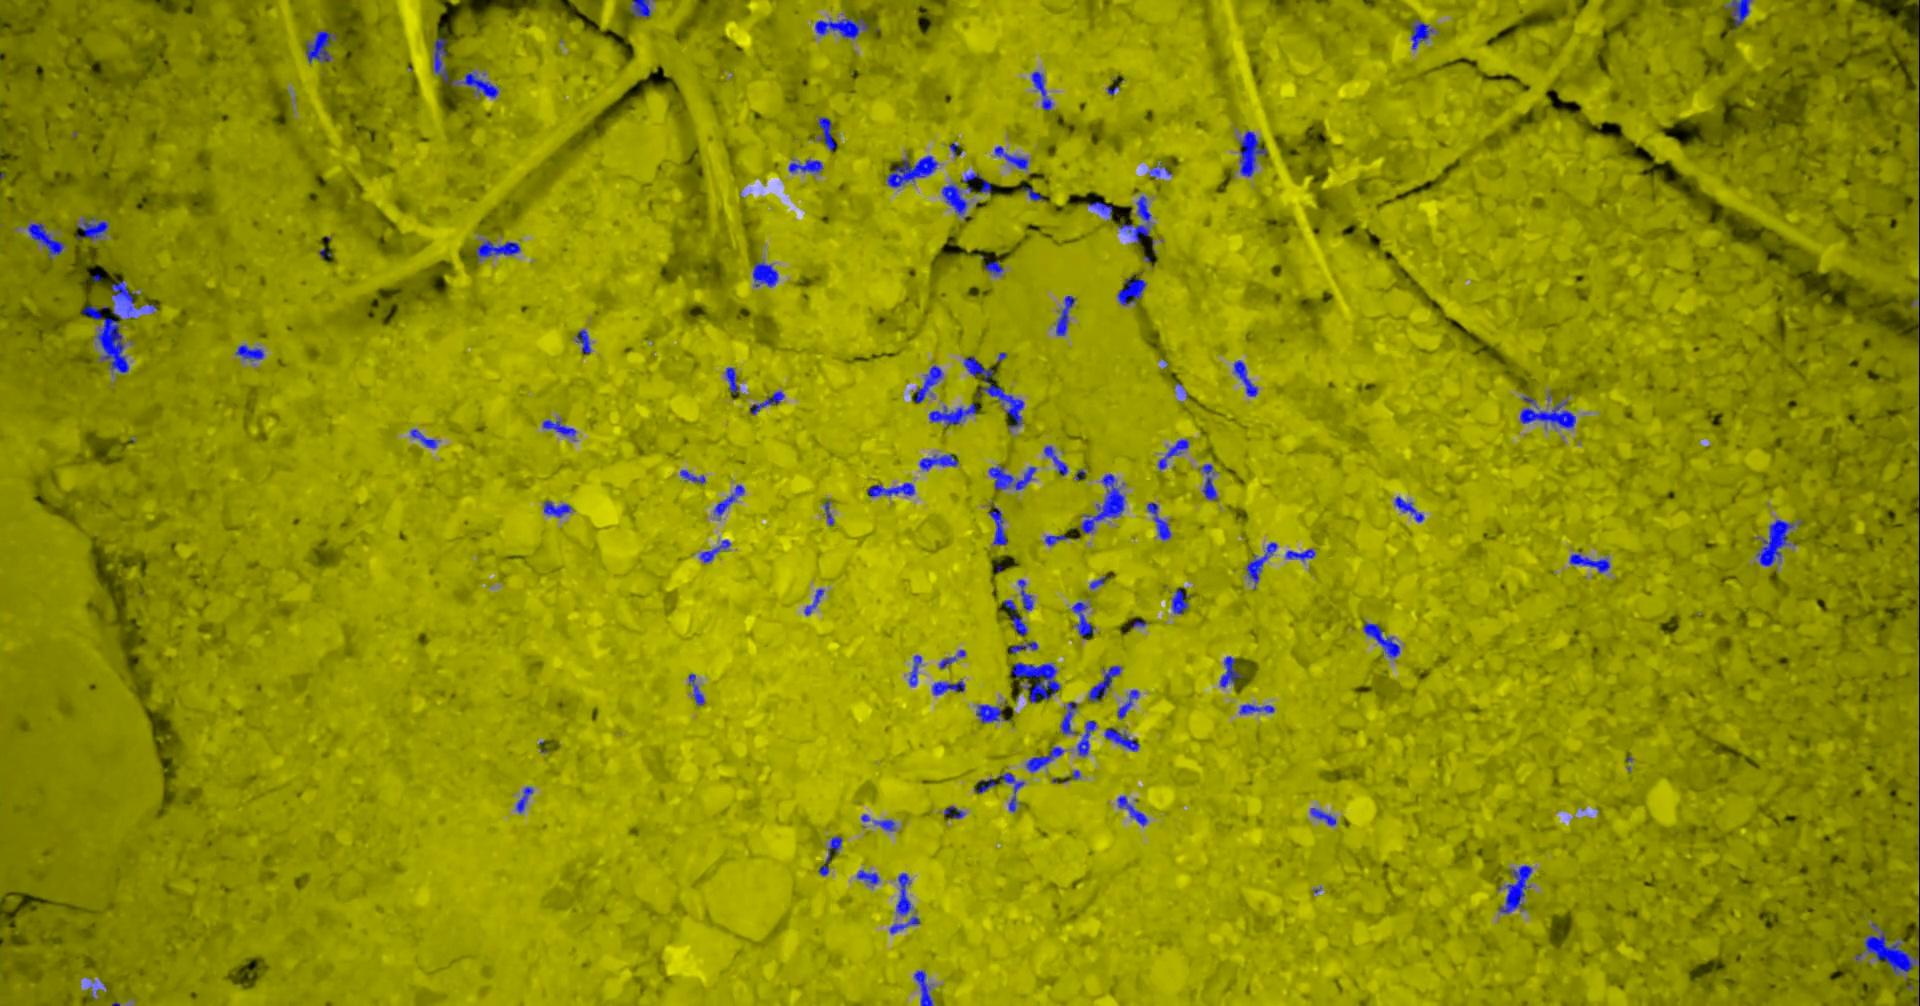ant: (963, 354, 1023, 428), (1079, 473, 1124, 533), (1863, 930, 1919, 974), (1011, 662, 1059, 702), (1755, 520, 1793, 567), (1519, 396, 1575, 428), (886, 155, 938, 187), (1498, 864, 1531, 913), (1119, 196, 1150, 243), (1246, 542, 1277, 588), (1239, 130, 1267, 177), (27, 224, 63, 258), (1363, 622, 1399, 657), (110, 279, 143, 316), (988, 464, 1035, 489), (814, 17, 869, 38), (1087, 666, 1120, 701), (928, 403, 977, 426), (712, 484, 744, 518), (305, 30, 337, 64), (433, 37, 455, 85), (916, 365, 942, 403), (458, 71, 498, 97), (1025, 746, 1063, 771), (941, 183, 968, 218), (475, 240, 521, 260), (1157, 439, 1189, 469), (1145, 502, 1170, 540), (999, 772, 1023, 810), (818, 836, 841, 875), (1117, 795, 1147, 826), (1233, 359, 1257, 396), (1070, 601, 1093, 639), (1117, 276, 1145, 305), (1003, 600, 1026, 635), (1103, 727, 1139, 749), (1031, 71, 1051, 111), (994, 145, 1027, 169), (1394, 495, 1423, 522), (1055, 295, 1074, 335), (76, 216, 108, 240), (750, 391, 783, 414), (1570, 553, 1609, 572), (1043, 445, 1067, 475), (988, 506, 1007, 544), (698, 539, 730, 561), (1219, 655, 1242, 687), (1410, 19, 1432, 50), (913, 970, 933, 1005), (1724, 0, 1751, 25), (752, 260, 778, 286), (1076, 720, 1095, 756), (542, 419, 575, 439), (867, 481, 914, 495), (817, 116, 836, 150), (895, 873, 910, 915), (919, 453, 957, 470), (1117, 688, 1138, 718), (963, 171, 990, 192), (1201, 464, 1217, 499), (803, 588, 823, 615), (889, 916, 919, 934), (1060, 701, 1077, 733), (938, 649, 965, 668), (931, 680, 964, 695), (688, 673, 703, 705), (975, 704, 1001, 723), (1086, 199, 1112, 217), (1017, 579, 1032, 610), (543, 500, 571, 517), (1310, 807, 1335, 826), (410, 429, 436, 447), (724, 367, 739, 396), (235, 344, 263, 359), (789, 159, 822, 171), (1171, 588, 1187, 614), (516, 786, 532, 812), (575, 329, 590, 354), (1285, 547, 1316, 560), (630, 0, 653, 17), (908, 655, 921, 685), (679, 469, 705, 483), (1239, 702, 1274, 713), (1008, 641, 1037, 653), (1021, 185, 1044, 199), (973, 779, 996, 793), (856, 870, 879, 884), (1044, 533, 1069, 545), (1149, 163, 1170, 177), (1090, 575, 1111, 588), (984, 260, 1002, 276), (943, 805, 964, 818), (823, 500, 833, 525), (872, 819, 894, 829)
